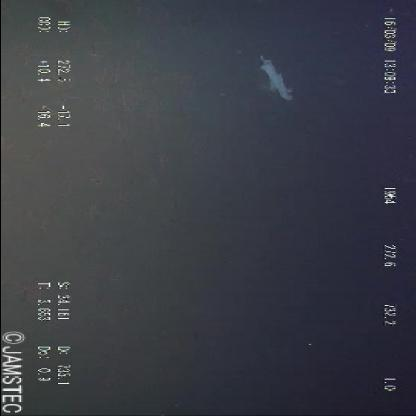Rác: (242, 48, 302, 106)
